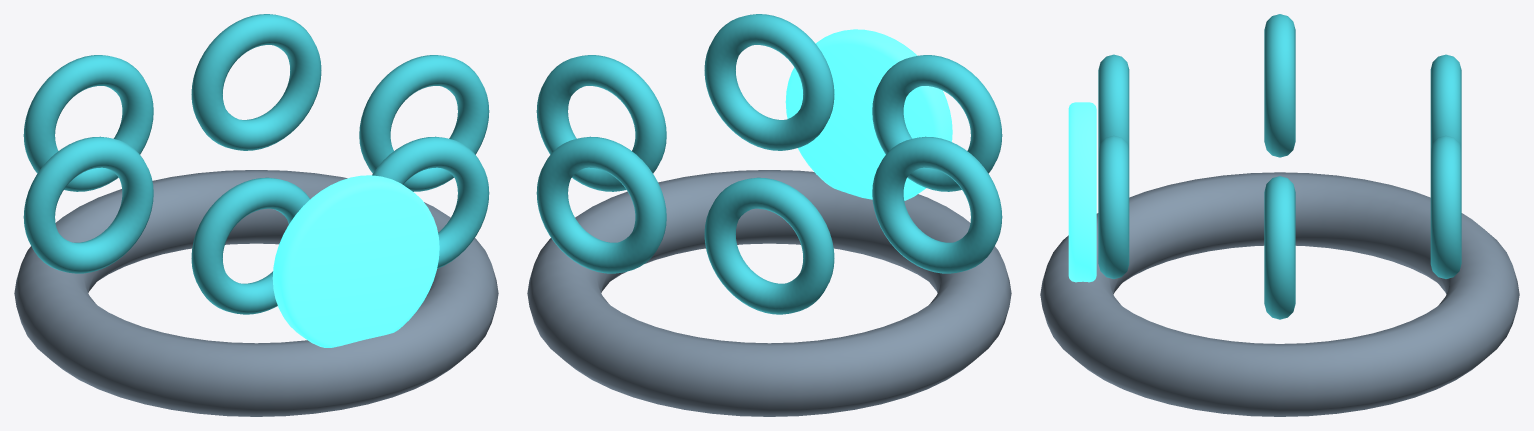
The model's file is crown_v8.glb.
3 views of the same model, side by side, from view 1: azimuth 30°, elevation 25°; view 2: azimuth 150°, elevation 25°; view 3: azimuth 270°, elevation 25° (orthographic).
Parts seen in each view (by area): view 1: CLOCK_CROWN_BAND_PRIMARY, CLOCK_FACE_EMISSIVE, CROWN_GEAR_ACCENT.003, CROWN_GEAR_ACCENT.001, CROWN_GEAR_ACCENT.002, CROWN_GEAR_ACCENT, CROWN_GEAR_ACCENT.004, CROWN_GEAR_ACCENT.005; view 2: CLOCK_CROWN_BAND_PRIMARY, CLOCK_FACE_EMISSIVE, CROWN_GEAR_ACCENT.001, CROWN_GEAR_ACCENT.002, CROWN_GEAR_ACCENT.003, CROWN_GEAR_ACCENT.005, CROWN_GEAR_ACCENT, CROWN_GEAR_ACCENT.004; view 3: CLOCK_CROWN_BAND_PRIMARY, CLOCK_FACE_EMISSIVE, CROWN_GEAR_ACCENT.001, CROWN_GEAR_ACCENT.003, CROWN_GEAR_ACCENT.005, CROWN_GEAR_ACCENT, CROWN_GEAR_ACCENT.002, CROWN_GEAR_ACCENT.004.
Boxes of the visible parts, <box> form: CLOCK_CROWN_BAND_PRIMARY: <box>14,170,498,416</box>; CLOCK_FACE_EMISSIVE: <box>272,175,439,347</box>; CROWN_GEAR_ACCENT.003: <box>23,136,153,273</box>; CROWN_GEAR_ACCENT.001: <box>191,14,321,150</box>; CROWN_GEAR_ACCENT.002: <box>23,55,153,191</box>; CROWN_GEAR_ACCENT: <box>359,55,489,191</box>; CROWN_GEAR_ACCENT.004: <box>191,177,310,314</box>; CROWN_GEAR_ACCENT.005: <box>372,136,489,268</box>; CLOCK_CROWN_BAND_PRIMARY: <box>527,170,1011,416</box>; CLOCK_FACE_EMISSIVE: <box>785,29,952,200</box>; CROWN_GEAR_ACCENT.001: <box>536,136,666,273</box>; CROWN_GEAR_ACCENT.002: <box>704,177,834,314</box>; CROWN_GEAR_ACCENT.003: <box>872,136,1002,273</box>; CROWN_GEAR_ACCENT.005: <box>704,14,834,150</box>; CROWN_GEAR_ACCENT: <box>536,55,666,191</box>; CROWN_GEAR_ACCENT.004: <box>872,55,1002,191</box>; CLOCK_CROWN_BAND_PRIMARY: <box>1040,172,1519,416</box>; CLOCK_FACE_EMISSIVE: <box>1068,102,1096,282</box>; CROWN_GEAR_ACCENT.001: <box>1430,135,1461,278</box>; CROWN_GEAR_ACCENT.003: <box>1264,14,1295,157</box>; CROWN_GEAR_ACCENT.005: <box>1098,135,1129,278</box>; CROWN_GEAR_ACCENT: <box>1264,176,1295,319</box>; CROWN_GEAR_ACCENT.002: <box>1430,54,1461,150</box>; CROWN_GEAR_ACCENT.004: <box>1098,54,1129,150</box>.
Size of the model in its own units: 1.87 by 0.885 by 1.7.
